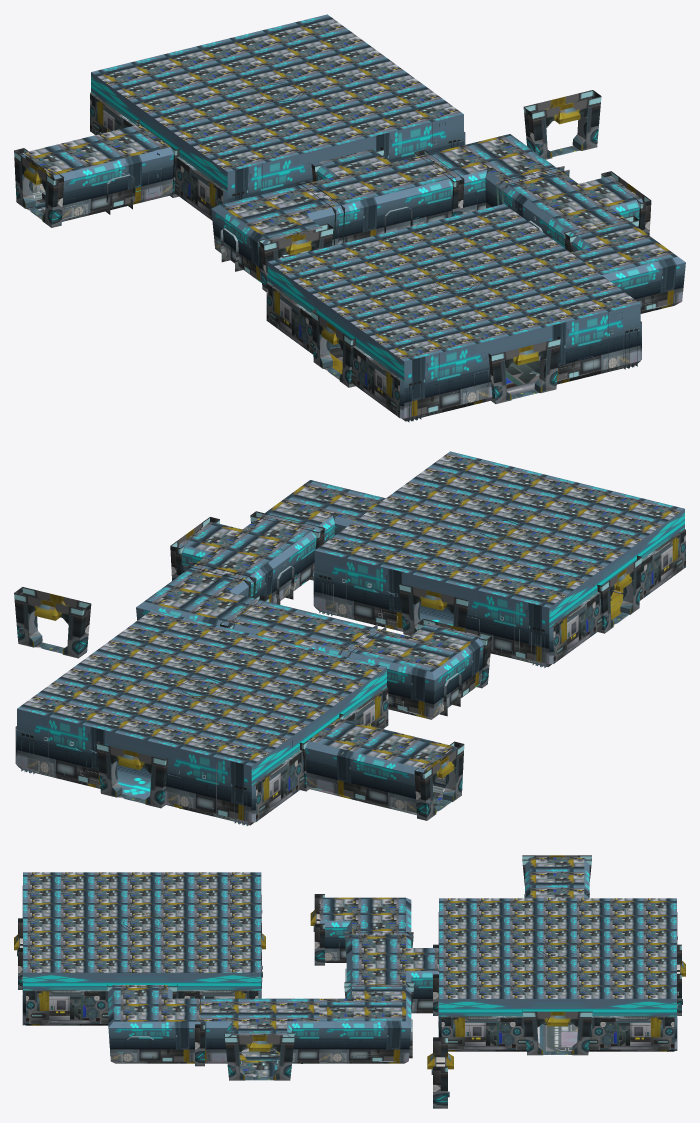
File: Combined_Mesh_root_scene__15_7f71ba4d__ZombiesII_laboratory_09_d_715a74b3_c1f257.obj
3 views of the same model, one above another, from view 1: azimuth 30°, elevation 25°; view 2: azimuth 150°, elevation 25°; view 3: azimuth 270°, elevation 25° (orthographic). The views are drawn at different scales.
Size of the model in its own units: 84.62 by 10.34 by 113.
591 materials, 591 textured.
